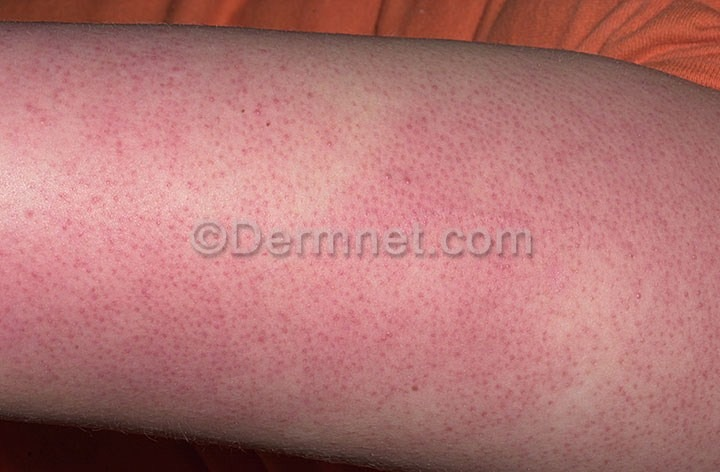Eczema: (4, 30, 716, 472)
